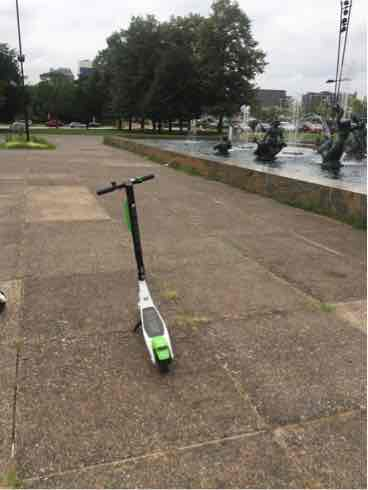scooter: (87, 171, 182, 379)
